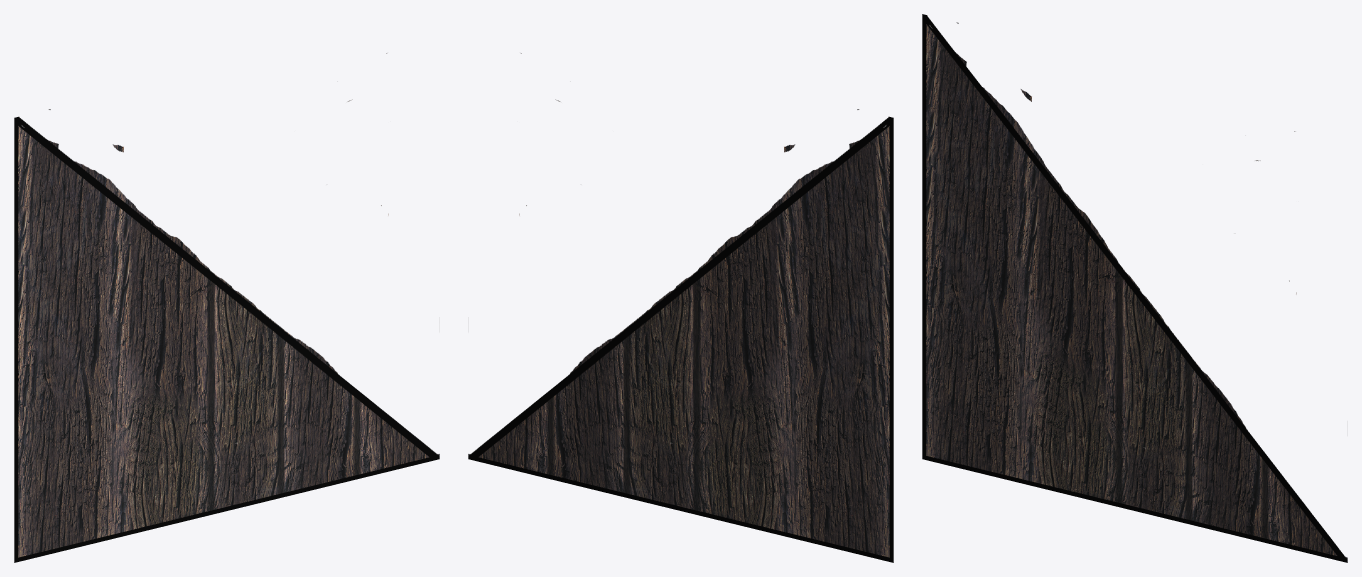
File: Wood_flow_Difuse3.glb
3 renders of one model, left to right at view 1: azimuth 30°, elevation 25°; view 2: azimuth 150°, elevation 25°; view 3: azimuth 330°, elevation 25°, orthographic.
Parts seen in each view (by area): view 1: mesh_id1, mesh_id43; view 2: mesh_id1, mesh_id43; view 3: mesh_id1, mesh_id43.
Boxes of the visible parts, <box> form: mesh_id1: <box>14,53,439,562</box>; mesh_id43: <box>15,346,17,536</box>; mesh_id1: <box>468,53,893,562</box>; mesh_id43: <box>890,346,892,536</box>; mesh_id1: <box>922,14,1347,562</box>; mesh_id43: <box>923,243,925,434</box>.
Size of the model in its own units: 1.02 by 1.02 by 0.00219.
2 materials, 2 textured.
